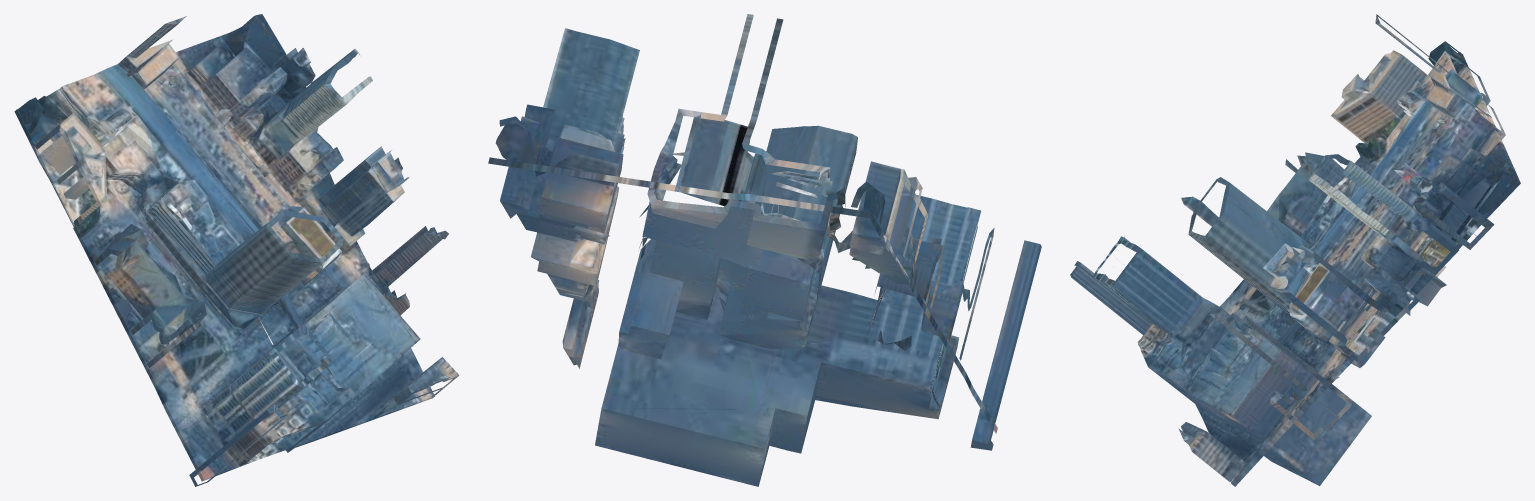
The model's file is AJVsH2y9fo6F4MHX4IU6mOB3oSmeXYcB_kg-gu0qGh_HLfuzsdXv1j-pn1vQ-ExH6Ito7lyBQLNtFvSVMO_eaFLUU7JQSo9ZTNitGe4bF0lBMNE9aLMxBSsG-qNiiYQXy4hX2JHRe5yRSfD6XulnOcHXdq6_Na7WLw.glb.
3 views of the same model, side by side, from view 1: azimuth 30°, elevation 25°; view 2: azimuth 150°, elevation 25°; view 3: azimuth 270°, elevation 25° (orthographic). The views are drawn at different scales.
Bounding box in the file's own units: 261 × 327 × 324.
2 materials, 2 textured.
